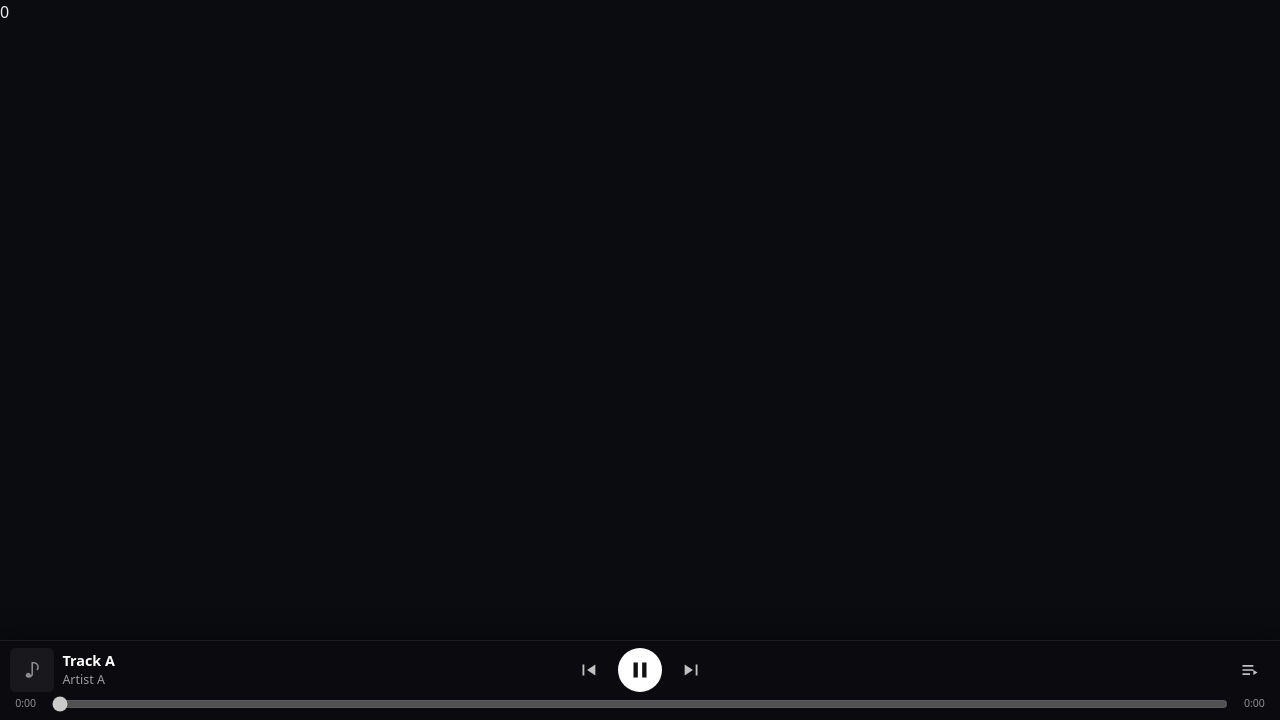
Test: NowPlayingBar — compact mobile layout › opens the reachable queue from the expanded player
Click the button with aria-label "Abrir reproductor: Track A": (32, 670) [8, 648, 564, 692]
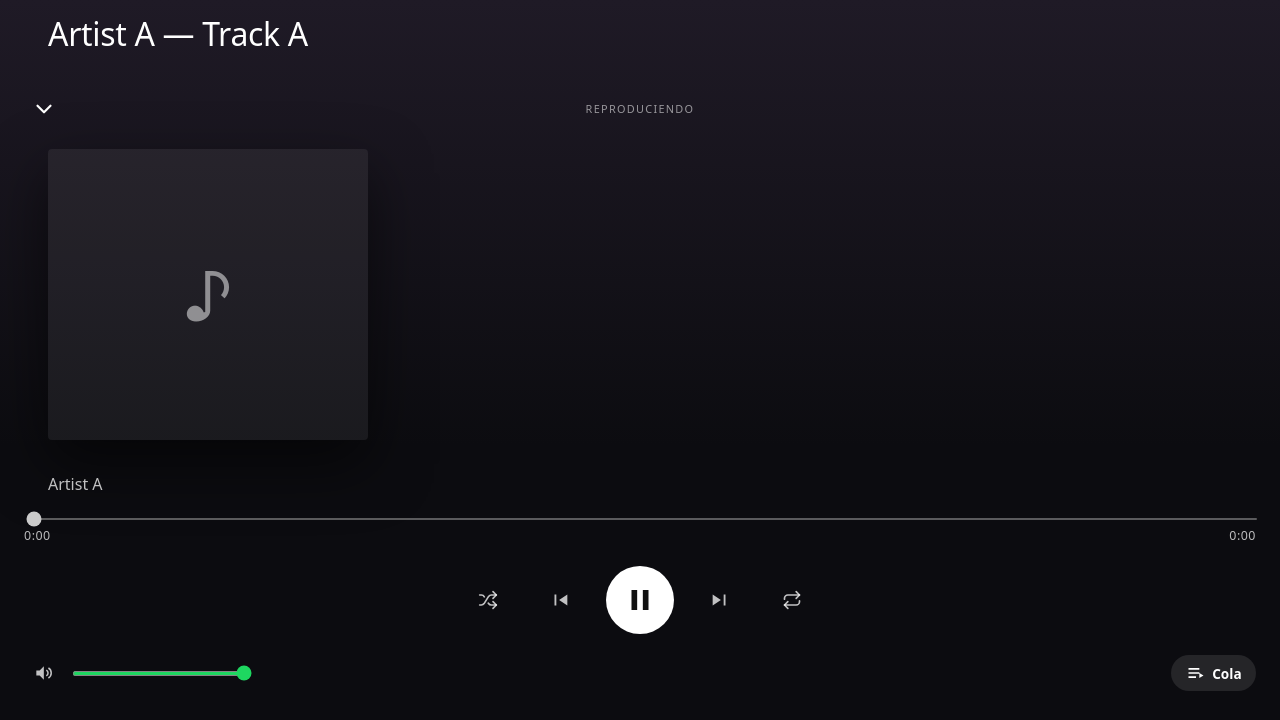
Click the button "Cola": (1214, 673) [1171, 655, 1256, 691]
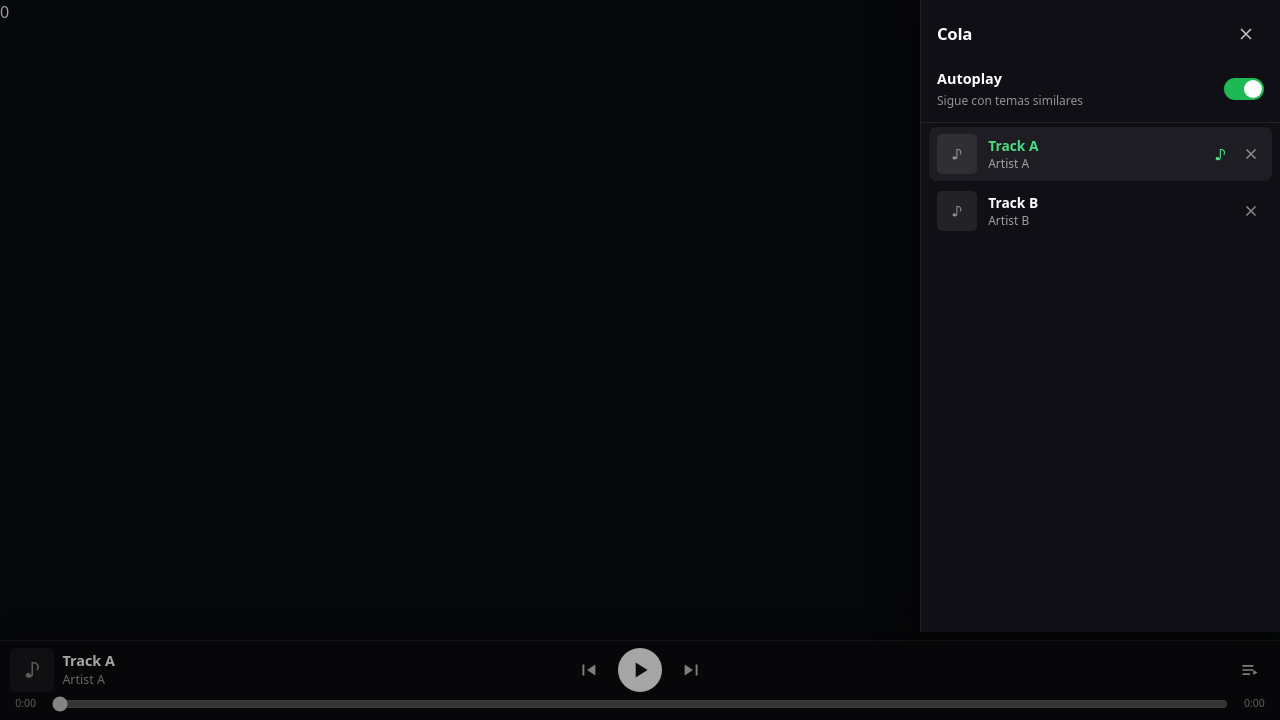
Result: the dialog named "Cola de reproducción" is shown at [920, 0, 1279, 632]
Result: the button with aria-label "Reproducir Track B" is shown at [929, 184, 1234, 238]
